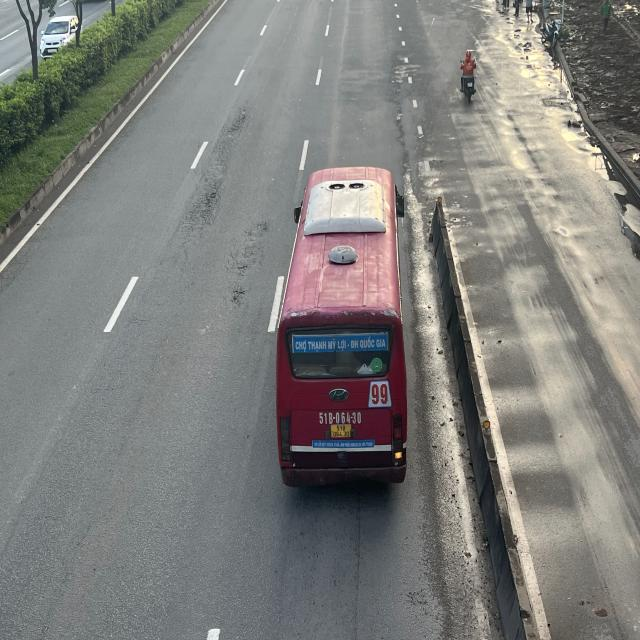coach: (275, 164, 411, 486)
